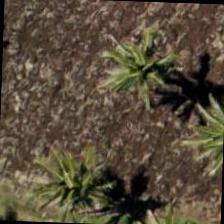Kelapa_Sawit: (102, 23, 195, 116), (31, 135, 125, 223)
